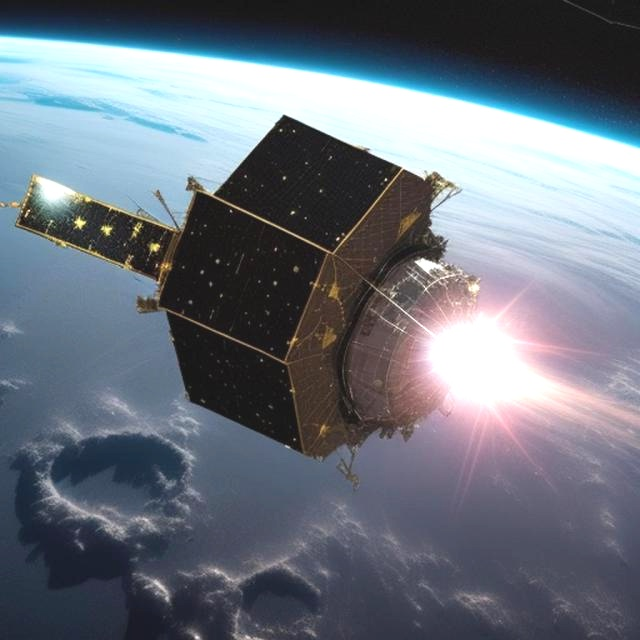medium_debris: (7, 98, 561, 473)
